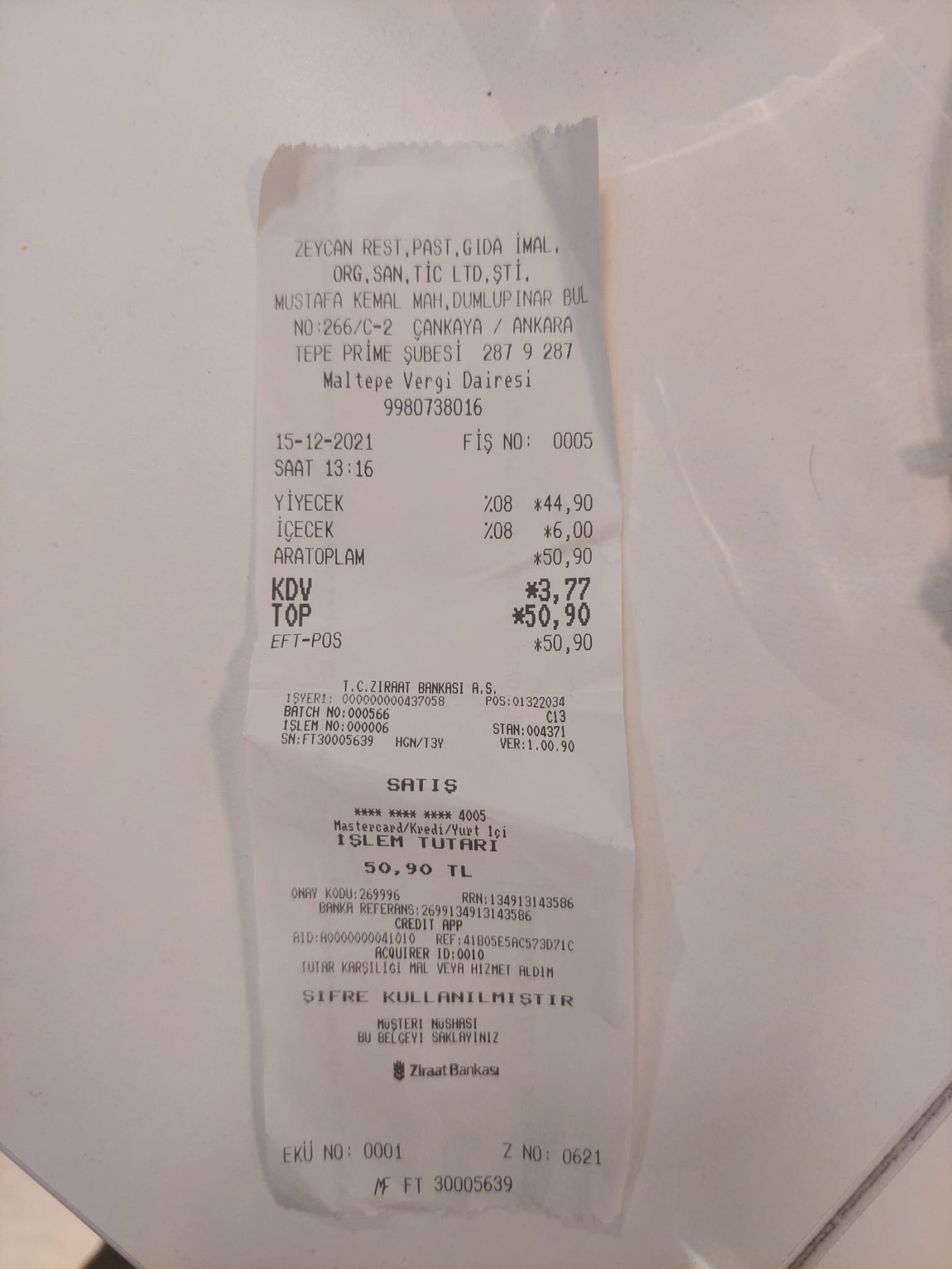date: (269, 427, 384, 456)
price: (523, 600, 596, 632)
workplace: (271, 230, 593, 343)
